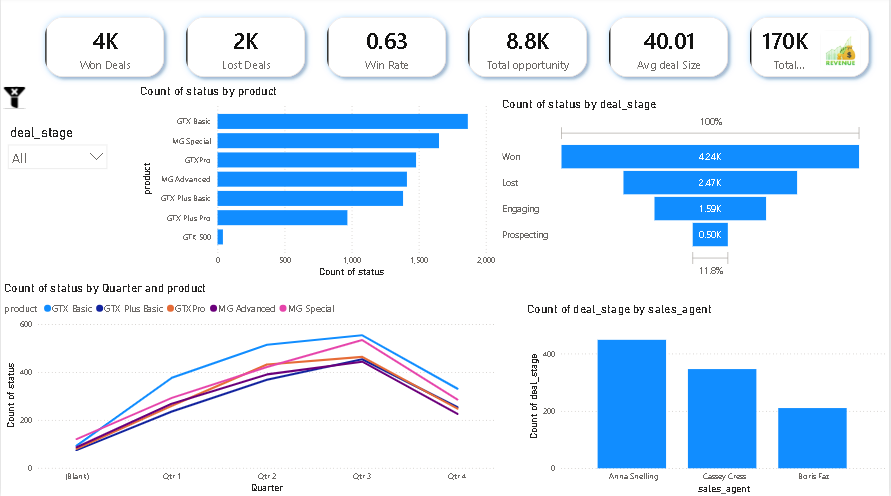

Layout of this report page (visuals, bound fields, positions):
{"tool":"powerbi","page":{"name":"Page 1","canvas":[1280,720],"ordinal":0},"visuals":[{"type":"slicer","fields":{"Values":["sales_pipeline.deal_stage"]},"box":[0,178.6,162.7,77.8],"z":0},{"type":"lineStackedColumnComboChart","fields":{"Category":["sales_teams.sales_agent"],"Y":["CountNonNull(sales_pipeline.deal_stage)"]},"box":[752.9,438.6,527.1,281.4],"z":1000},{"type":"lineChart","fields":{"Category":["sales_pipeline.engage_date.Variation.Date Hierarchy.Quarter"],"Y":["CountNonNull(sales_pipeline.status)"],"Series":["sales_pipeline.product"]},"box":[0,408.6,717.1,311.4],"z":2000},{"type":"cardVisual","fields":{"Data":["sales_pipeline.Won Deals","sales_pipeline.Lost Deals","sales_pipeline.Win Rate","CountNonNull(sales_pipeline.opportunity_id)","sales_pipeline.Avg deal Size","Sum(accounts.revenue)"]},"box":[34.3,0,1245.7,144.3],"z":3000},{"type":"funnel","fields":{"Category":["sales_pipeline.deal_stage"],"Y":["CountNonNull(sales_pipeline.status)"]},"box":[717.1,144,528.5,265],"z":4000},{"type":"clusteredBarChart","fields":{"Category":["sales_pipeline.product"],"Y":["CountNonNull(sales_pipeline.status)"]},"box":[195.8,125.3,521.3,283.7],"z":5000},{"type":"actionButton","box":[0,125.3,44.6,38.9],"z":5001}]}

Visuals, with their boxes in screenshot pixels (x1, y1, x2, y2), scaled from the page's 1280x720 canvas onto the 891x496 screenshot:
slicer - sales_pipeline.deal_stage: crop(0, 123, 113, 177)
lineStackedColumnComboChart - sales_teams.sales_agent x CountNonNull(sales_pipeline.deal_stage): crop(524, 302, 890, 495)
lineChart - sales_pipeline.engage_date.Variation.Date Hierarchy.Quarter x CountNonNull(sales_pipeline.status): crop(0, 281, 499, 495)
cardVisual - sales_pipeline.Won Deals x sales_pipeline.Lost Deals: crop(24, 0, 890, 99)
funnel - sales_pipeline.deal_stage x CountNonNull(sales_pipeline.status): crop(499, 99, 867, 282)
clusteredBarChart - sales_pipeline.product x CountNonNull(sales_pipeline.status): crop(136, 86, 499, 282)
actionButton: crop(0, 86, 31, 113)
